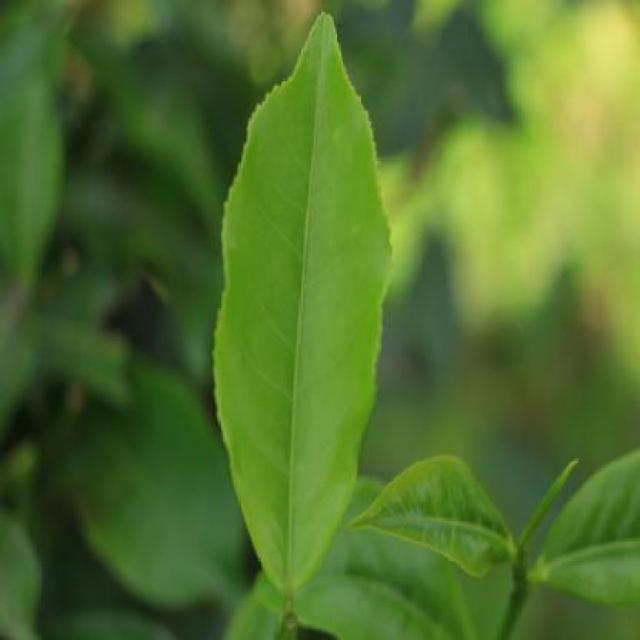Tea leaf: (209, 15, 397, 583)
